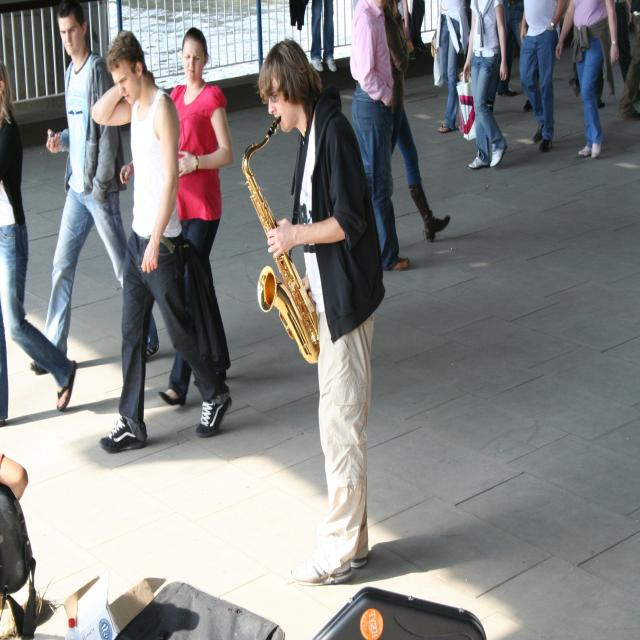saxophone: (242, 114, 325, 360)
